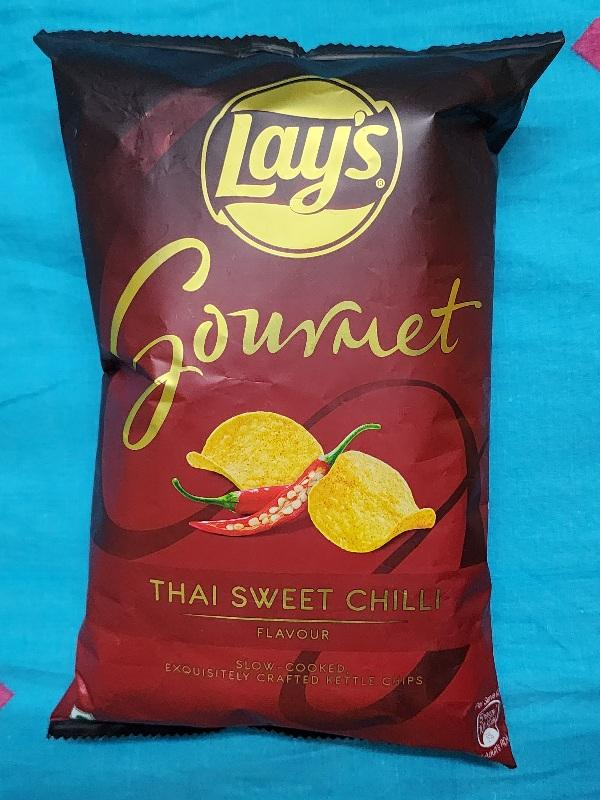Lays: (31, 28, 572, 773)
